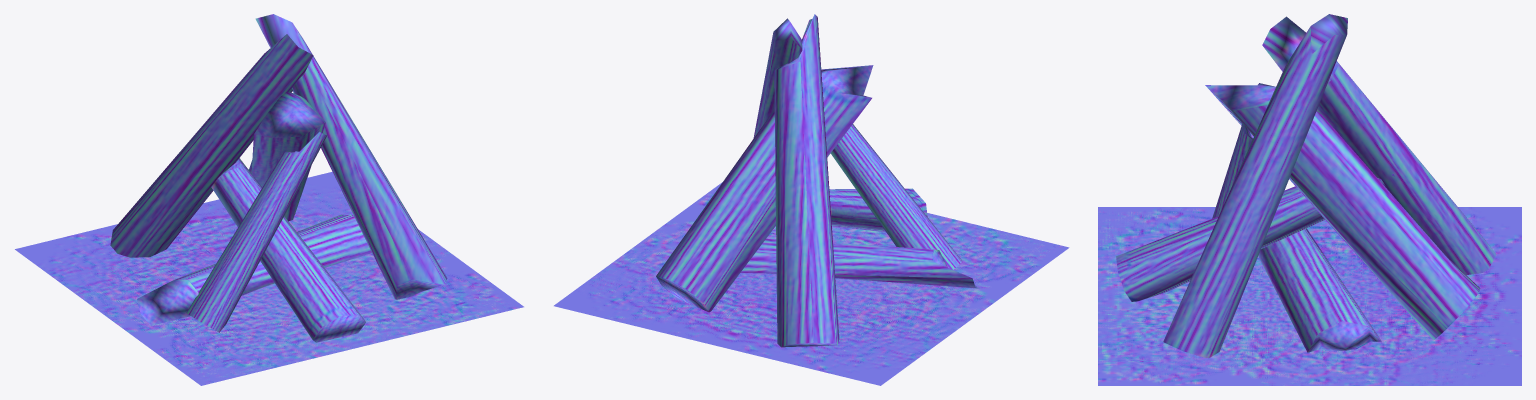
Rendered from Fire_Pit_2.obj.
The picture shows the model from 3 angles, left to right: view 1: azimuth 30°, elevation 25°; view 2: azimuth 150°, elevation 25°; view 3: azimuth 270°, elevation 25°; orthographic projection. The views are drawn at different scales.
Parts seen in each view (by area): view 1: 3DSMesh_0_0; view 2: 3DSMesh_0_0; view 3: 3DSMesh_0_0.
Part boxes in pixels (<box>): 3DSMesh_0_0: <box>15,14,523,385</box>; 3DSMesh_0_0: <box>554,14,1069,385</box>; 3DSMesh_0_0: <box>1098,14,1521,385</box>.
Bounding box in the file's own units: 2.97 × 2.33 × 2.97.
1 material, 1 textured.
